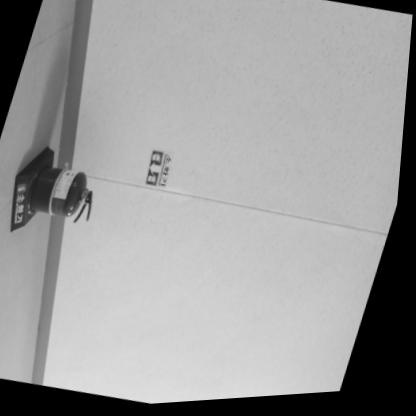FE: (3, 143, 111, 248)
